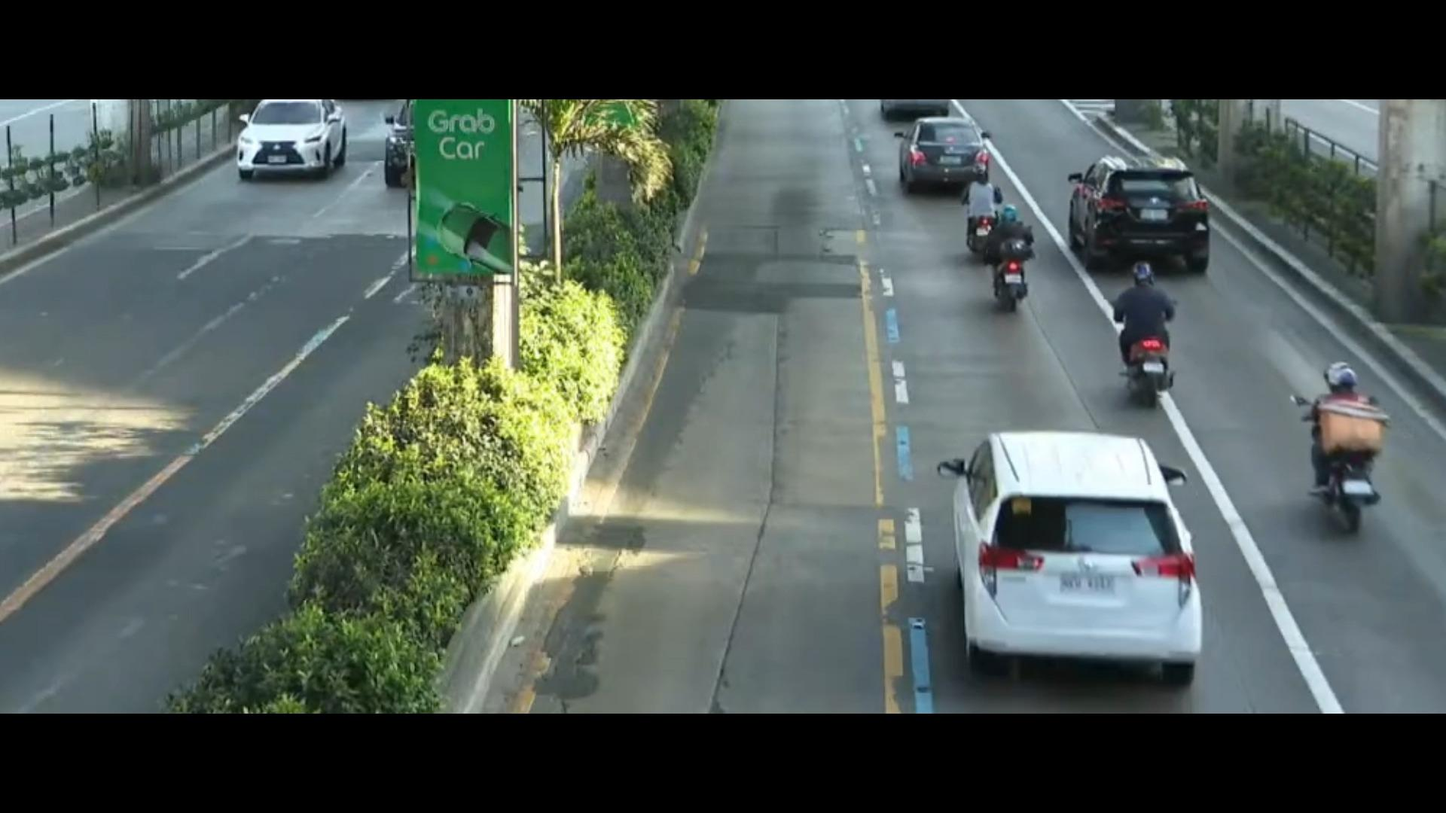Motorcycle: (1301, 360, 1414, 533), (1105, 260, 1209, 399), (959, 153, 1008, 265), (994, 202, 1032, 316)
SUV: (927, 396, 1244, 689), (1064, 138, 1226, 272)
Sedan: (234, 96, 349, 192), (904, 104, 1000, 198)
